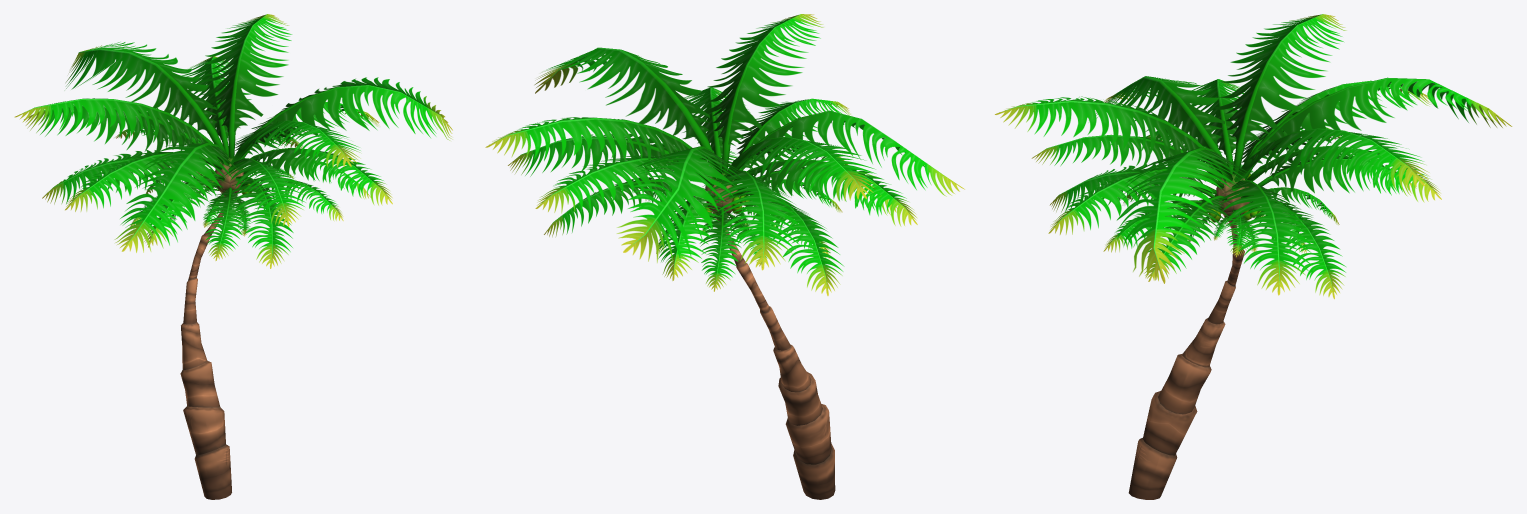
Rendered from palm.glb.
3 renders of one model, left to right at view 1: azimuth 30°, elevation 25°; view 2: azimuth 150°, elevation 25°; view 3: azimuth 270°, elevation 25°, orthographic. The views are drawn at different scales.
Bounding box in the file's own units: 6.03 × 5.85 × 6.31.
Materials: 1 (1 with a texture image).
